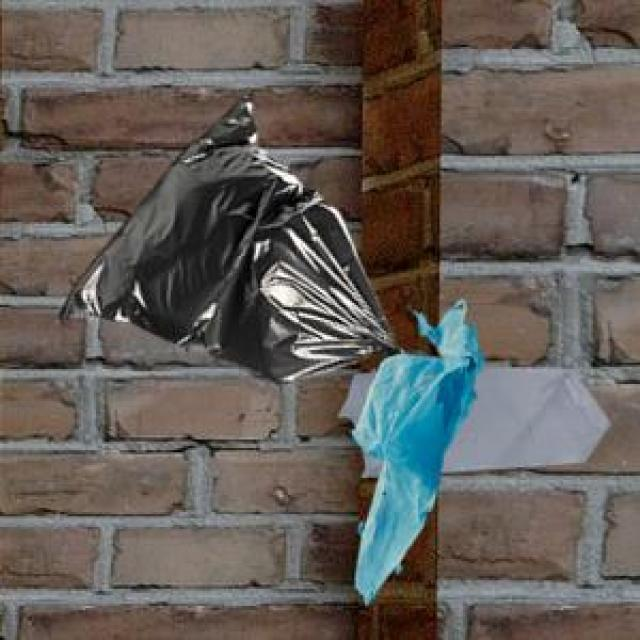miscellaneous trash: (53, 88, 427, 380)
